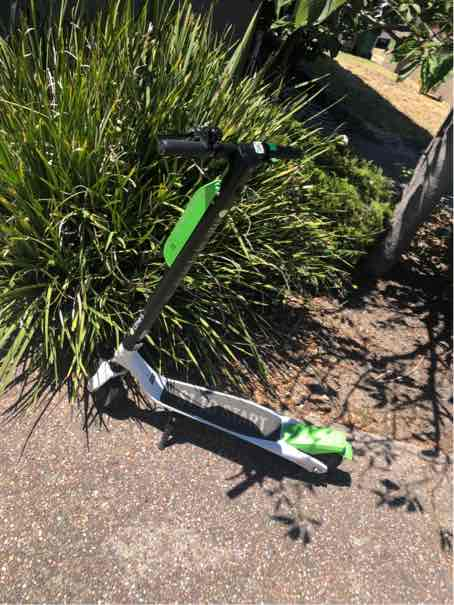scooter: (77, 118, 360, 492)
